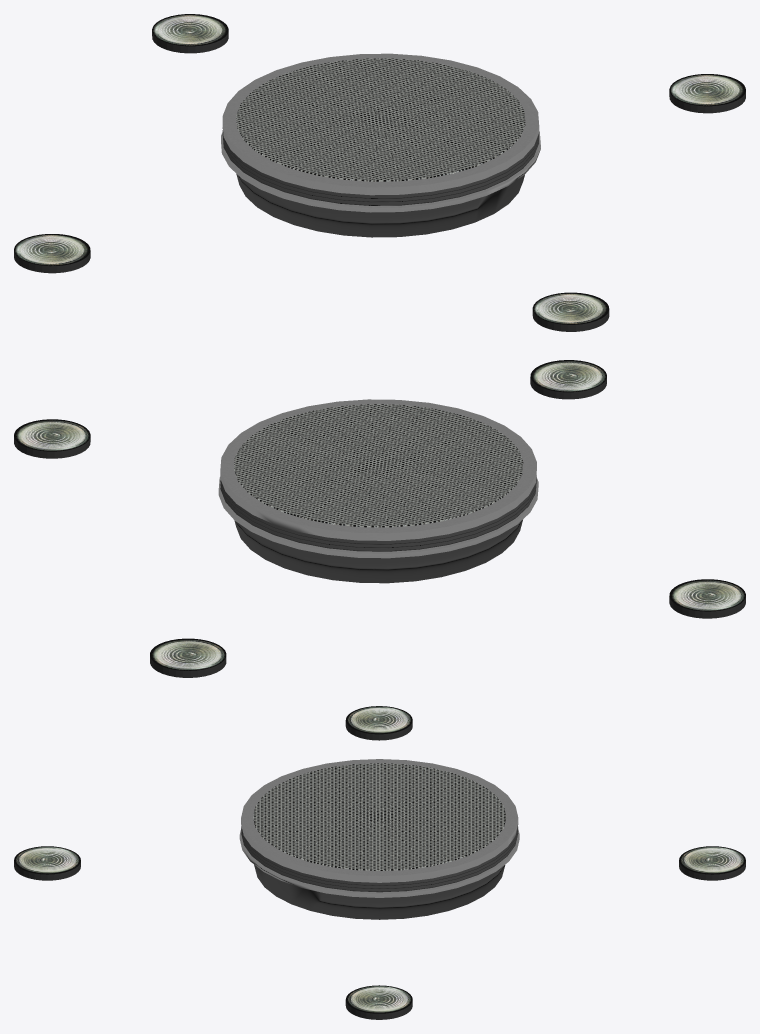
The model's file is Holographic-Plinth.fbx.
3 renders of one model, top to bottom at view 1: azimuth 30°, elevation 25°; view 2: azimuth 150°, elevation 25°; view 3: azimuth 270°, elevation 25°, orthographic. The views are drawn at different scales.
Visible parts, largest first — view 1: Cylinder.004; view 2: Cylinder.004; view 3: Cylinder.004.
Boxes of the visible parts, x1,y1,x2,y2 form: Cylinder.004: (14, 14, 745, 331); Cylinder.004: (14, 360, 745, 677); Cylinder.004: (14, 706, 745, 1019).
Size of the model in its own units: 552 by 42.16 by 555.
4 materials, 3 textured.
